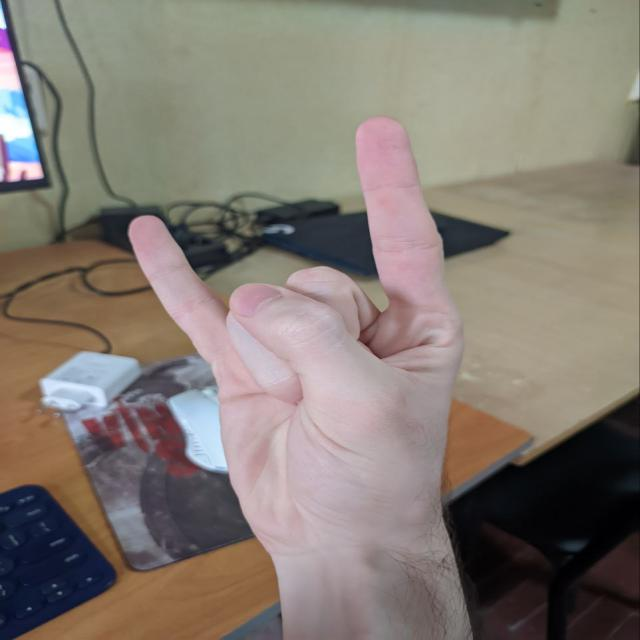y: (98, 110, 516, 533)
